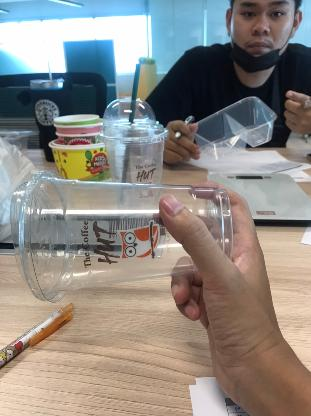Plastic Cup: (7, 173, 234, 297)
